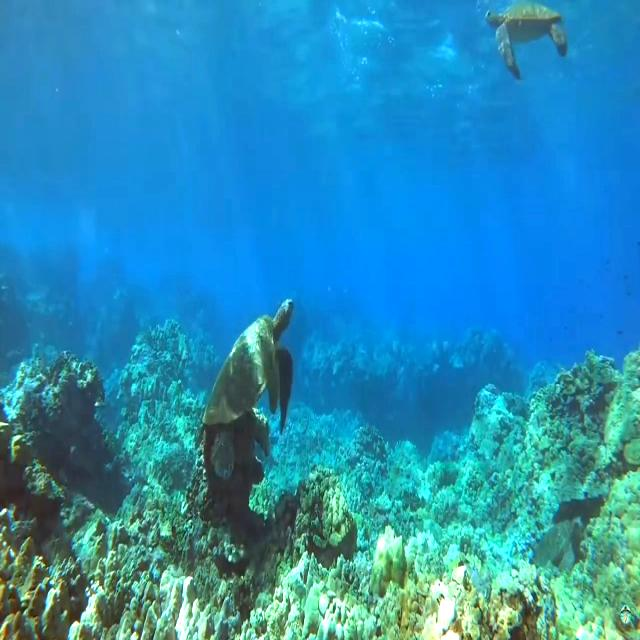Sea turtle: (200, 296, 296, 457), (482, 0, 568, 83)
